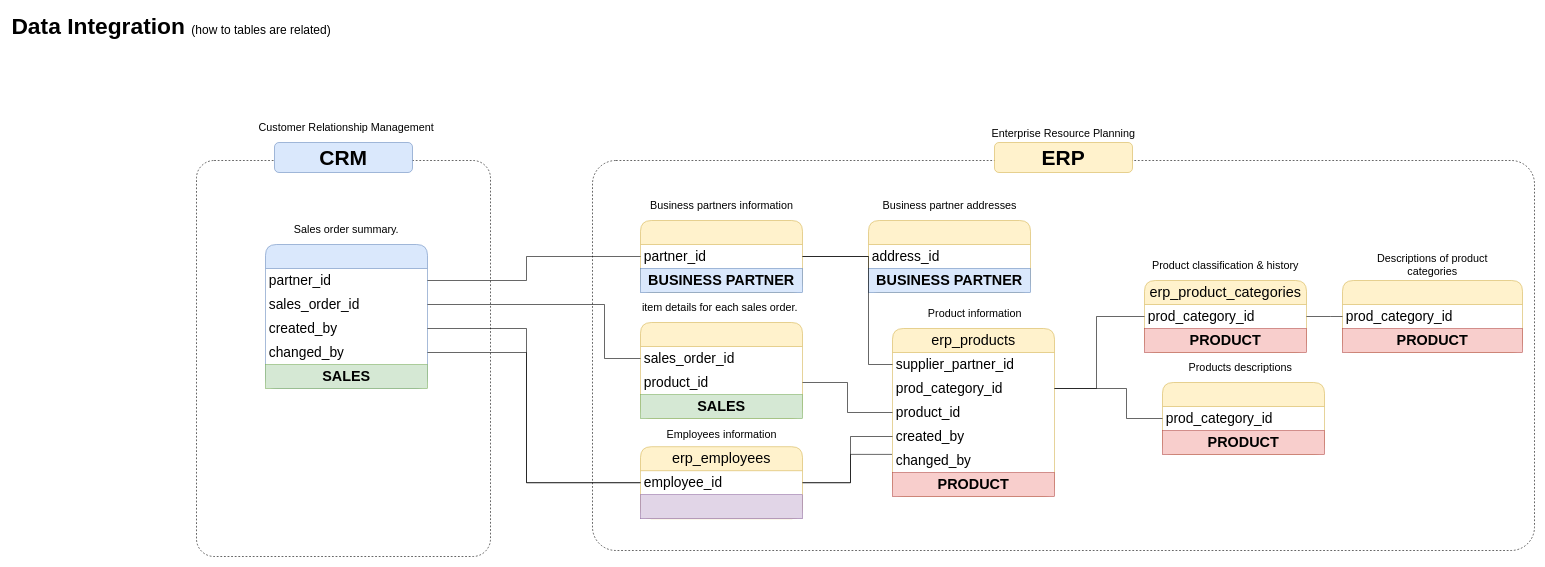
Some shapes in this 1545 by 567 pixel diagram are drawn without their labels. Here are the shapes that lost their labels. From the top down, the box of each, then its label:
(640, 220, 802, 292): erp_business_partners
(868, 220, 1030, 292): erp_addresses
(265, 244, 428, 388): crm_sales_orders
(1342, 280, 1522, 352): erp_product_category_text
(640, 322, 802, 418): erp_sales_order_items
(1162, 382, 1324, 454): erp_product_texts
(640, 494, 802, 519): EMPLOYEE
